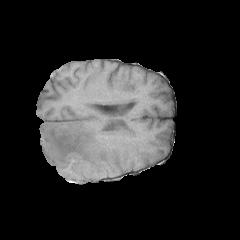glioma: (40, 123, 122, 178)
